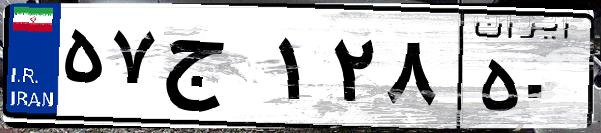0: (525, 38, 570, 115)
1: (270, 28, 330, 110)
2: (330, 28, 385, 110)
5: (57, 26, 110, 100), (475, 38, 525, 113)
7: (110, 28, 158, 98)
8: (385, 28, 445, 110)
ج: (158, 20, 270, 120)
